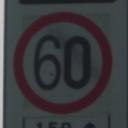speed_limit_60: (14, 11, 112, 113)
